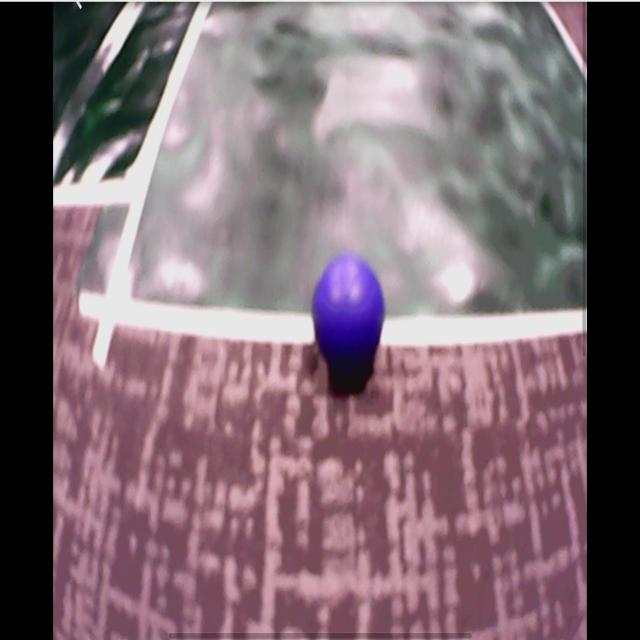ball: (313, 256, 386, 373)
